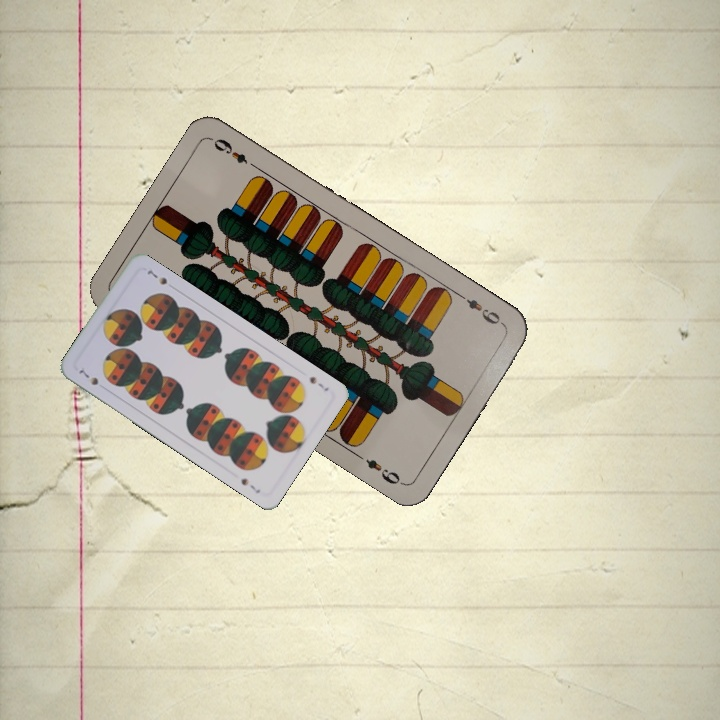E9: (455, 290, 507, 328)
S7: (74, 365, 101, 388), (305, 372, 331, 394)
